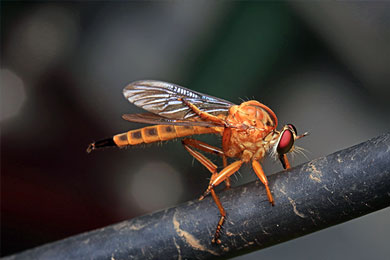phorid fly: (65, 63, 307, 238)
